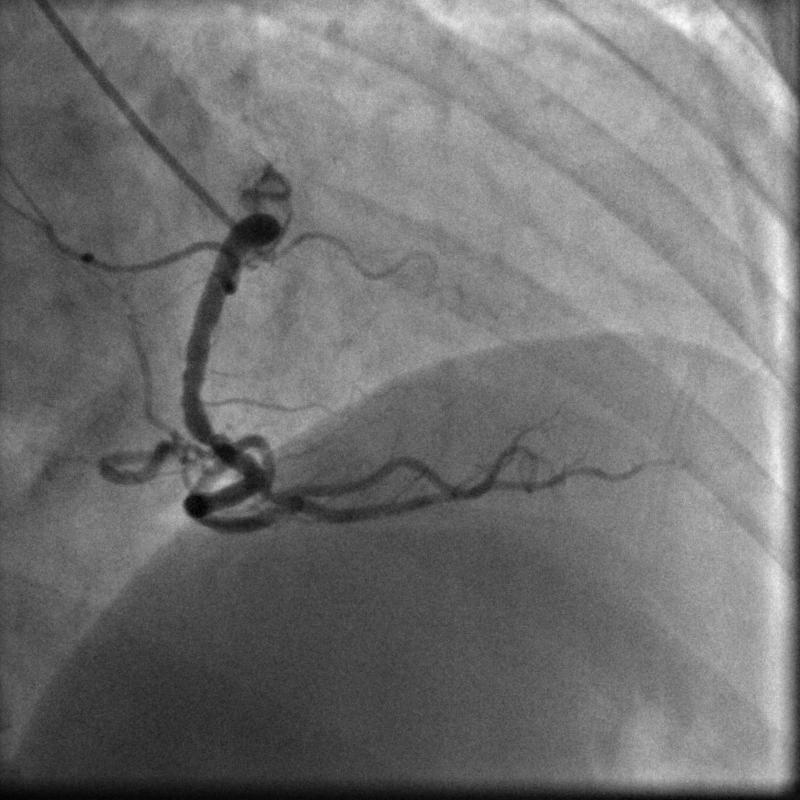Stenosis: (182, 416, 232, 455)
